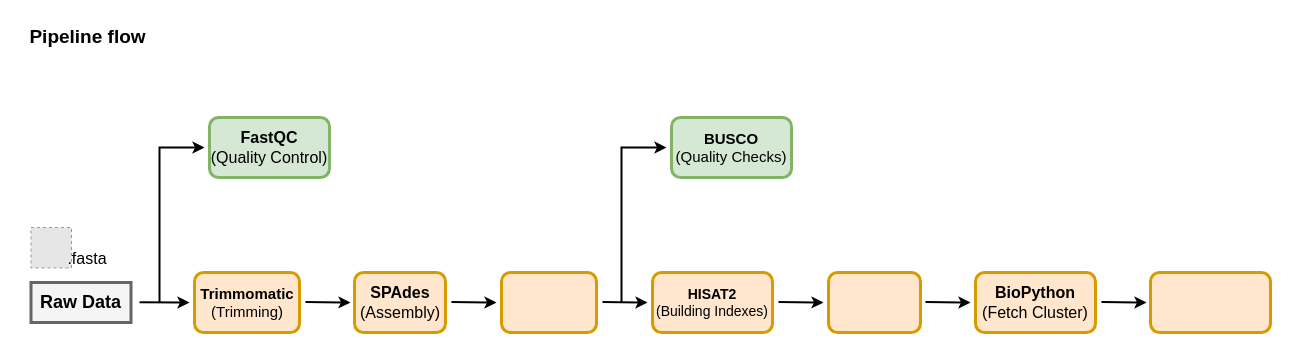
Image size: 1292x351. Some labels were removed from this diagram. Grey dashed boxes stand in for pictures. The shapes that lost their labels are listed below. From the top down, each one's centre as x and y in pixels, then its label:
At (549,302): "CD-HIT-est (Redundancy Trimming)".
At (874,302): "Corset (Redundacy Trimming)".
At (1210,302): "TransDecoder (ORF Prediction)".
